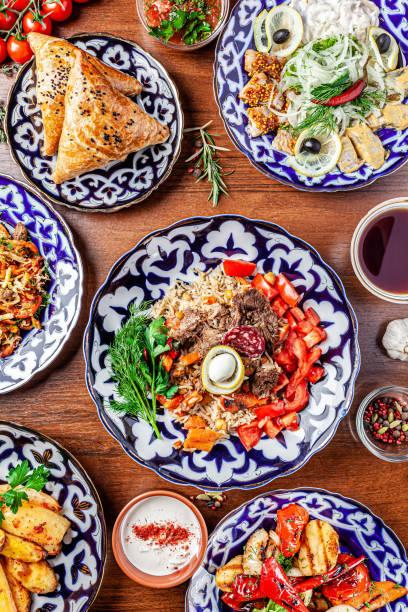Braised Crucian Carp: (83, 215, 359, 482), (211, 3, 402, 193), (7, 31, 183, 208), (186, 487, 406, 608), (0, 421, 107, 611), (1, 176, 87, 392)
